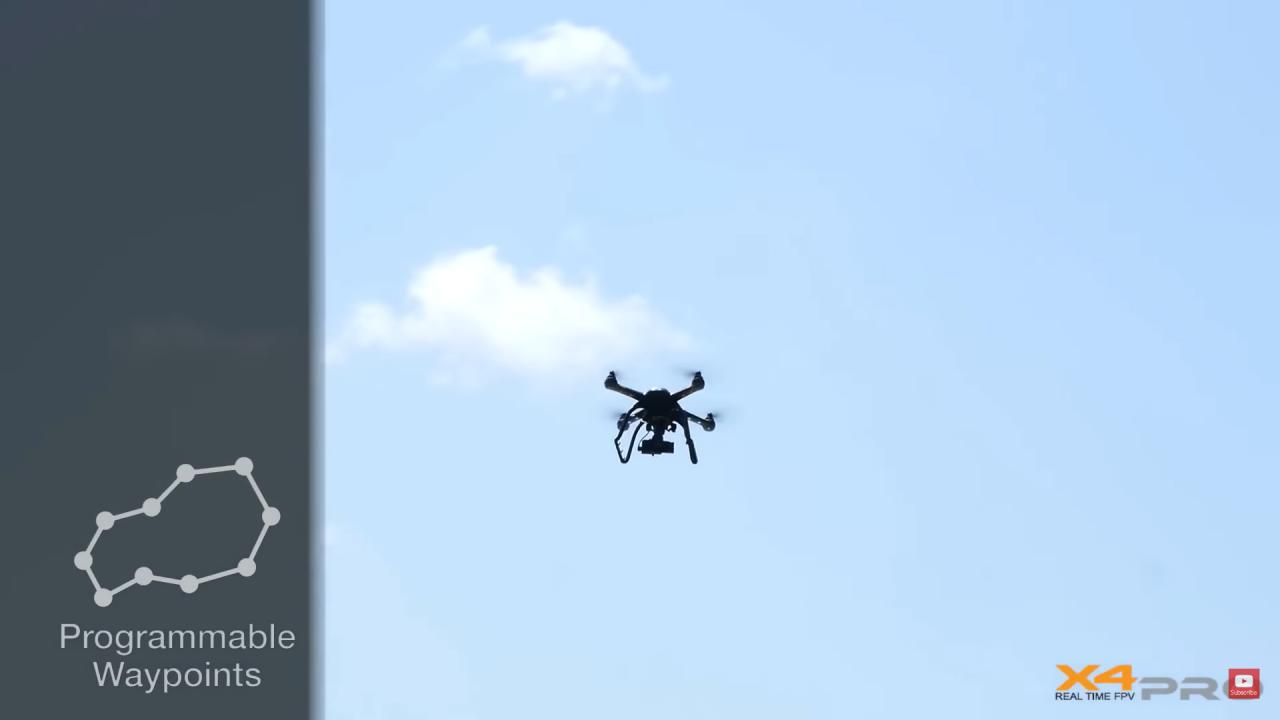Drone: (586, 353, 741, 476)
